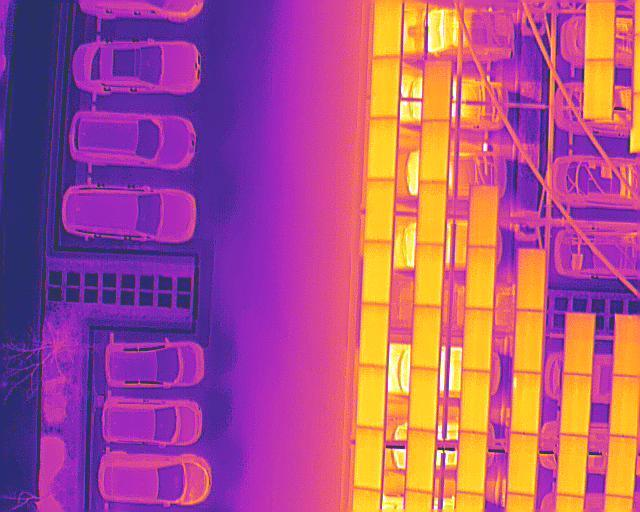Cell: (512, 372, 542, 433)
No-Anomaly: (564, 312, 595, 375), (370, 56, 401, 119), (606, 437, 637, 498), (368, 118, 398, 181), (469, 185, 499, 248), (363, 241, 392, 305), (515, 311, 545, 372), (415, 243, 444, 306), (562, 375, 592, 435), (355, 428, 384, 490), (418, 183, 447, 244), (373, 0, 404, 57), (458, 432, 486, 495), (357, 368, 386, 428), (412, 307, 441, 367), (585, 59, 614, 119), (420, 120, 448, 182), (360, 304, 388, 366), (367, 180, 395, 241), (410, 369, 438, 430), (517, 249, 545, 310), (424, 60, 452, 121), (407, 431, 435, 492), (509, 434, 537, 495), (468, 247, 495, 310), (587, 1, 616, 59), (465, 309, 492, 371), (559, 437, 587, 496), (461, 373, 489, 432), (612, 376, 638, 437)
